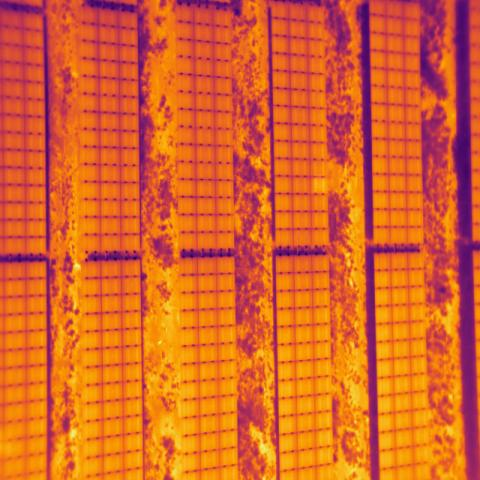fault: (314, 174, 324, 188)
